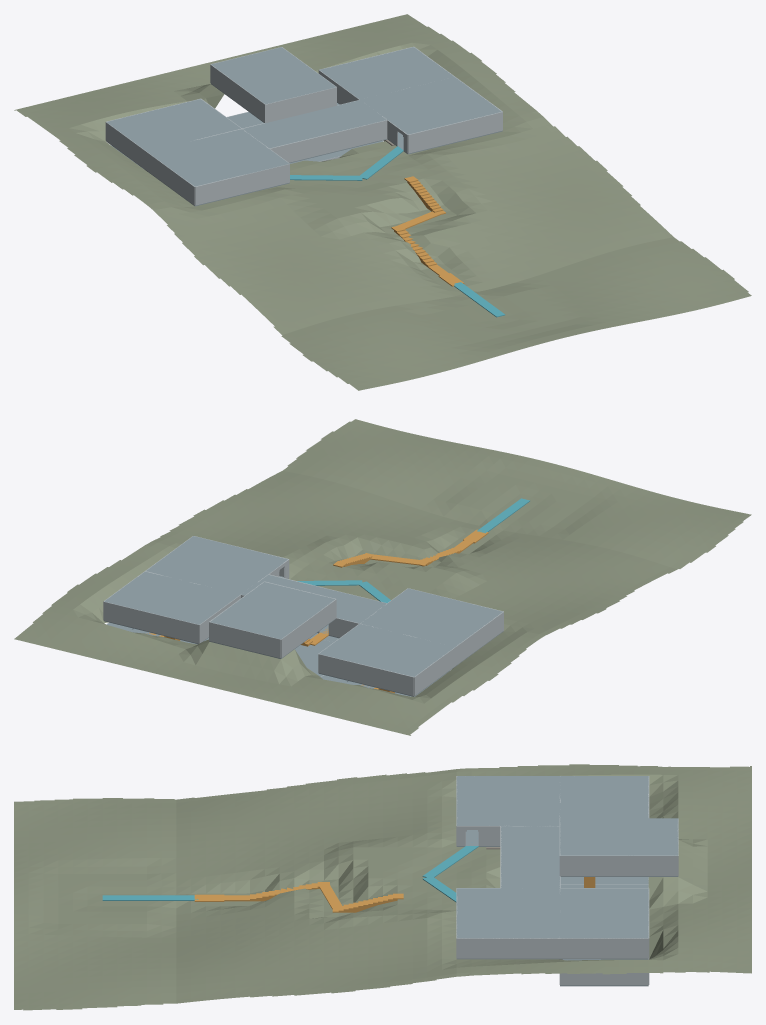
Rendered from open-circulation.glb.
3 renders of one model, top to bottom at view 1: azimuth 30°, elevation 25°; view 2: azimuth 150°, elevation 25°; view 3: azimuth 270°, elevation 25°, orthographic. The views are drawn at different scales.
Parts seen in each view (by area): view 1: Saved editor stair bench terrain WLD-17, Ceiling cap west, Ceiling cap east, Ceiling cap director, Ceiling cap service, Ceiling cap magazine, Ceiling cap gallery, Wall gallery S, Wall east S, Wall west S, Wall director S, Wall director W (+2 smaller); view 2: Saved editor stair bench terrain WLD-17, Ceiling cap west, Ceiling cap east, Ceiling cap service, Ceiling cap magazine, Ceiling cap director, Wall service N, Wall magazine N, Ceiling cap gallery, Wall director N, Wall director W, Wall west W (+2 smaller); view 3: Saved editor stair bench terrain WLD-17, Ceiling cap east, Ceiling cap west, Ceiling cap service, Ceiling cap director, Ceiling cap magazine, Ceiling cap gallery, Wall director E, Wall east E, Wall service E, Wall plant E, route-01 support 0 (+3 smaller).
Part boxes in pixels (<box>): Saved editor stair bench terrain WLD-17: <box>14,14,751,390</box>; Ceiling cap west: <box>148,129,289,186</box>; Ceiling cap east: <box>360,77,501,134</box>; Ceiling cap director: <box>211,47,335,104</box>; Ceiling cap service: <box>319,47,454,99</box>; Ceiling cap magazine: <box>107,99,240,151</box>; Ceiling cap gallery: <box>243,100,386,148</box>; Wall gallery S: <box>269,120,387,162</box>; Wall east S: <box>408,112,502,153</box>; Wall west S: <box>195,164,289,205</box>; Wall director S: <box>265,87,336,122</box>; Wall director W: <box>210,64,265,122</box>; Saved editor stair bench terrain WLD-17: <box>14,419,751,735</box>; Ceiling cap west: <box>360,588,502,646</box>; Ceiling cap east: <box>146,536,287,594</box>; Ceiling cap service: <box>104,571,240,624</box>; Ceiling cap magazine: <box>319,624,454,676</box>; Ceiling cap director: <box>210,582,335,639</box>; Wall service N: <box>103,601,199,643</box>; Wall magazine N: <box>318,654,413,695</box>; Ceiling cap gallery: <box>241,575,386,623</box>; Wall director N: <box>209,622,280,658</box>; Wall director W: <box>281,599,336,658</box>; Wall west W: <box>456,611,503,665</box>; Saved editor stair bench terrain WLD-17: <box>14,764,751,1010</box>; Ceiling cap east: <box>456,888,559,938</box>; Ceiling cap west: <box>456,776,559,825</box>; Ceiling cap service: <box>560,888,648,938</box>; Ceiling cap director: <box>560,818,678,855</box>; Ceiling cap magazine: <box>560,776,648,818</box>; Ceiling cap gallery: <box>501,826,559,888</box>; Wall director E: <box>560,855,678,876</box>; Wall east E: <box>456,938,559,958</box>; Wall service E: <box>560,938,648,958</box>; Wall plant E: <box>560,973,648,985</box>; route-01 support 0: <box>102,895,198,900</box>.
Bounding box in the file's own units: 68 × 10.7 × 100.
